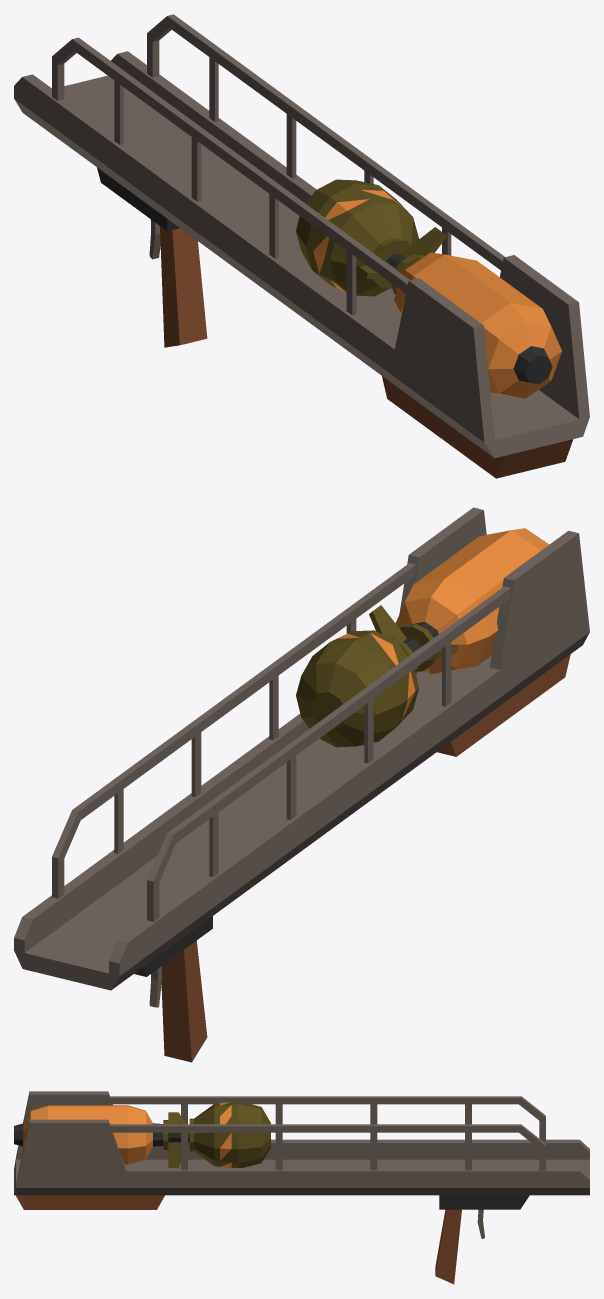
File: LP_PostApoc_LargeMan.fbx
3 views of the same model, one above another, from view 1: azimuth 30°, elevation 25°; view 2: azimuth 150°, elevation 25°; view 3: azimuth 270°, elevation 25° (orthographic). The views are drawn at different scales.
Visible parts, largest first — view 1: LargeMan; view 2: LargeMan; view 3: LargeMan.
Boxes of the visible parts, x1,y1,x2,y2 form: LargeMan: (14, 14, 589, 478); LargeMan: (14, 507, 589, 1062); LargeMan: (14, 1091, 589, 1284).
Size of the model in its own units: 10.44 by 27.3 by 80.8.
